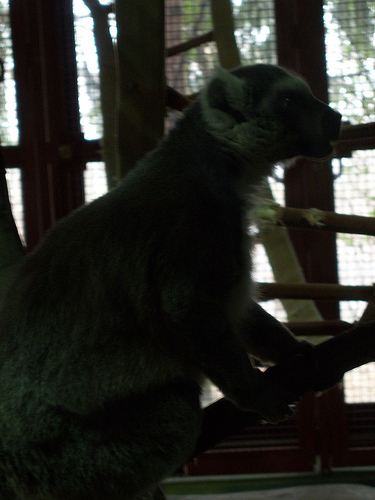cat: (0, 60, 345, 498)
